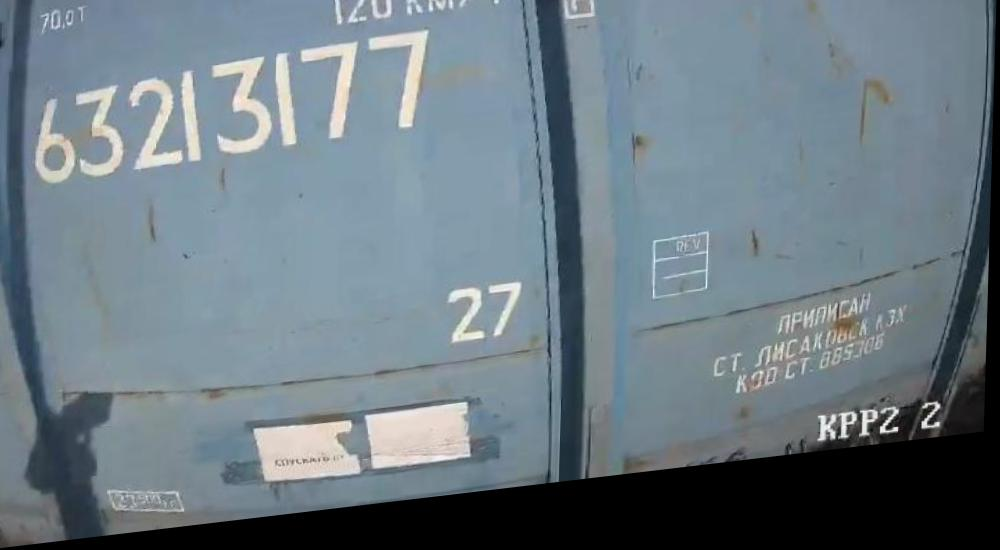Wagon-number: (29, 33, 442, 194)
